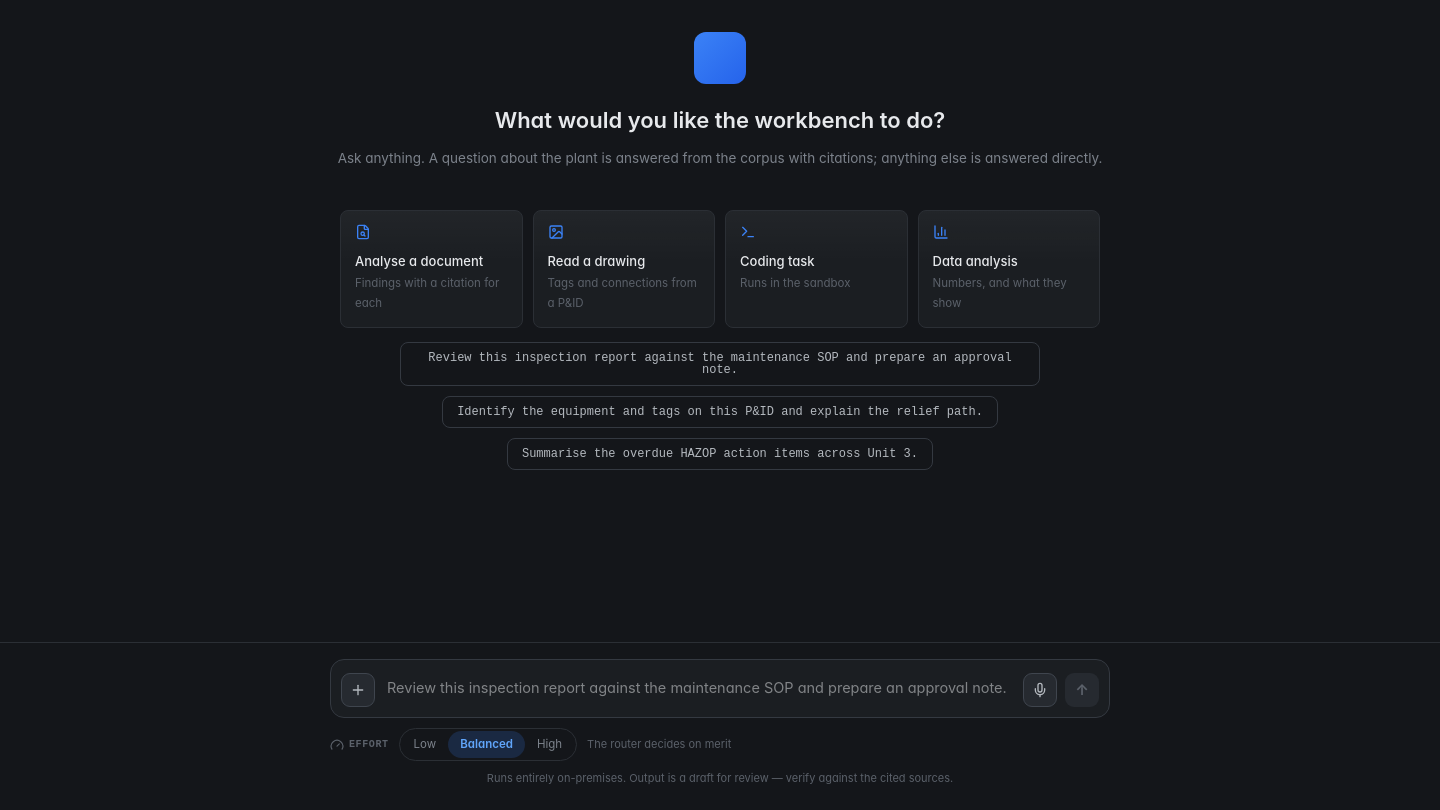
it: the Workbench › shows the failure instead of a spinner when the task fails
The image size is (1440, 810).
Type "do the thing" into the text box at (699, 689), box [383, 670, 1015, 707]
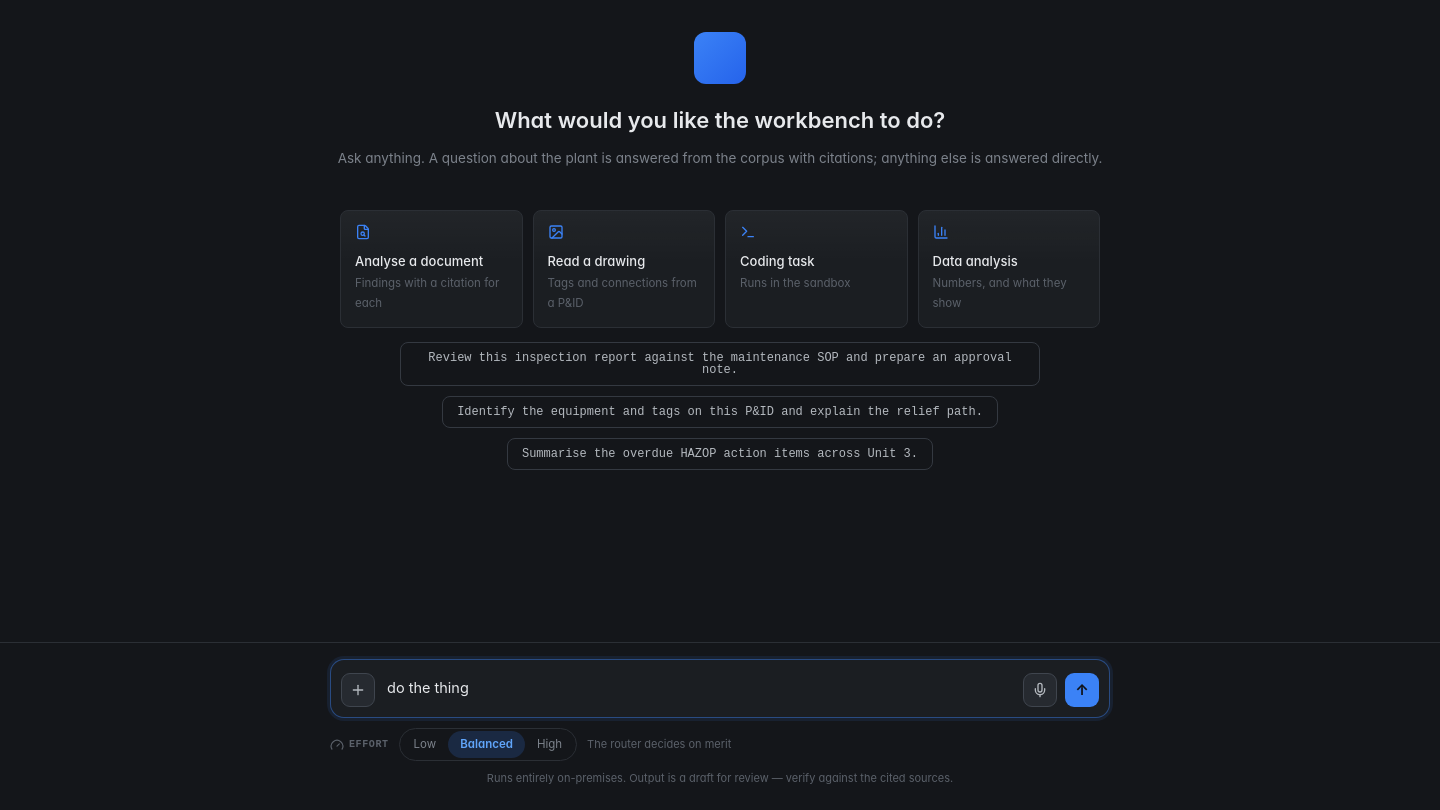
Click the button named "run task" at (1082, 690), box [1065, 673, 1099, 707]
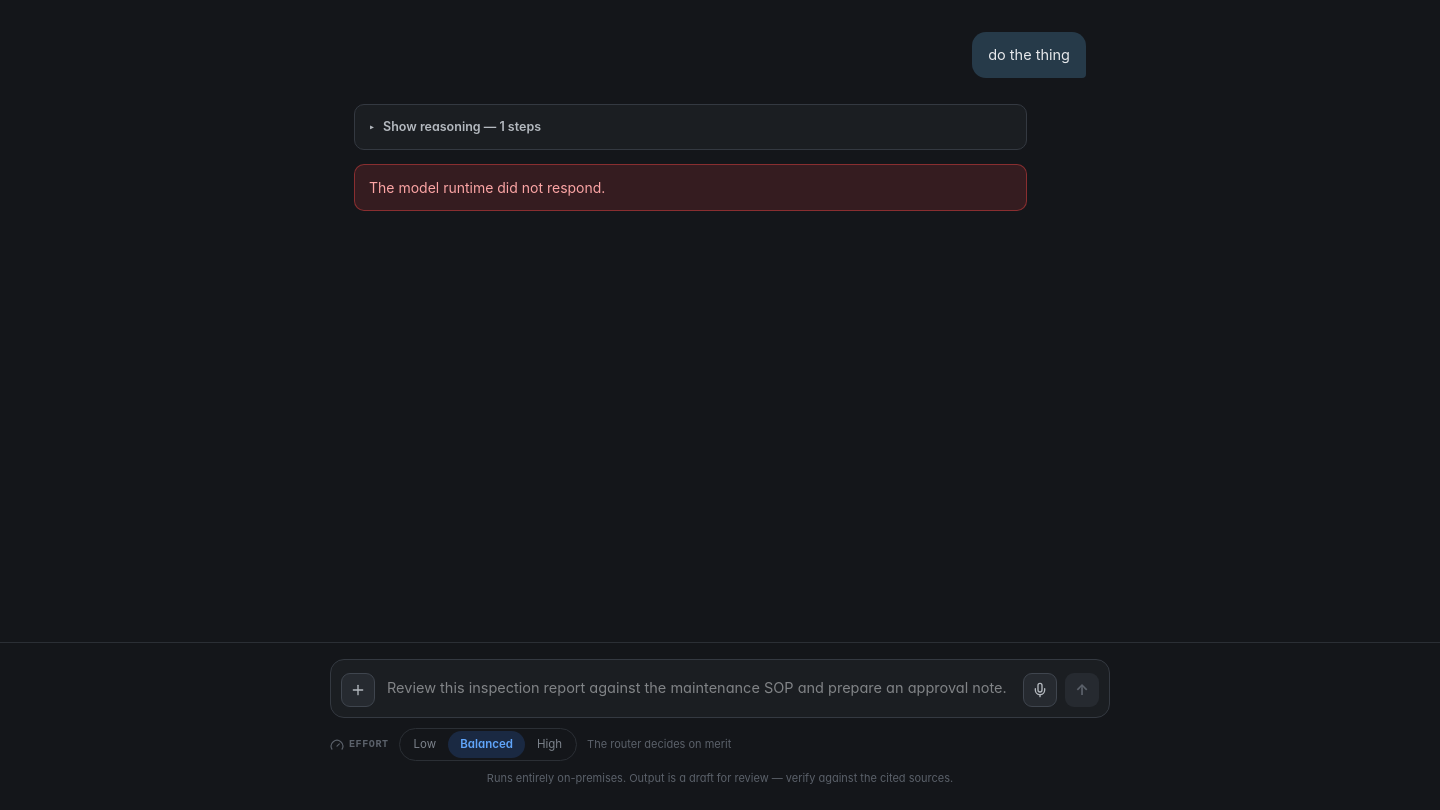
Now the text "The model runtime did not respond." is shown, box [354, 164, 1027, 211]
